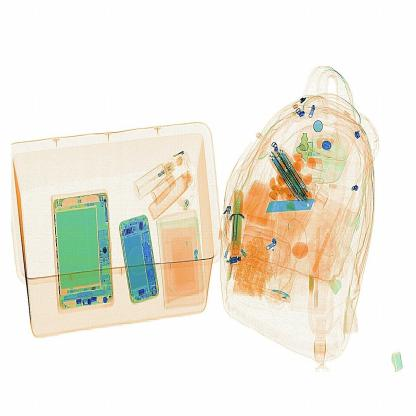pliers: (263, 190, 326, 224)
